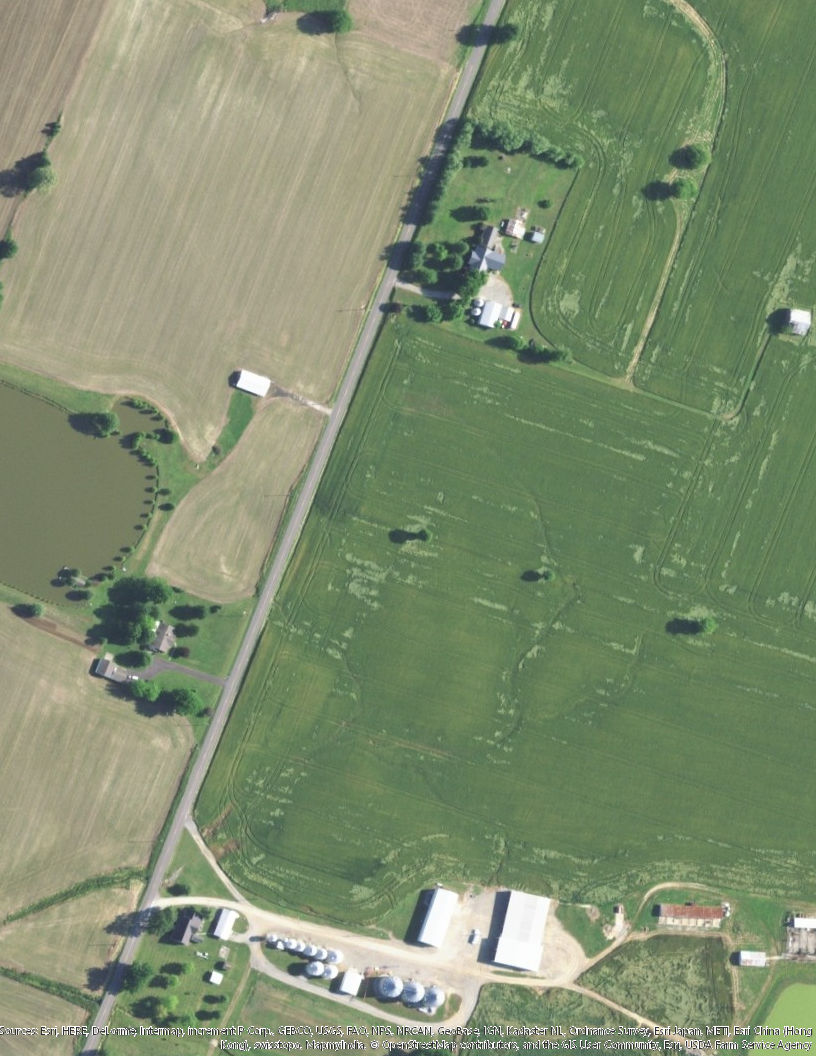cafo: (655, 901, 728, 931)
